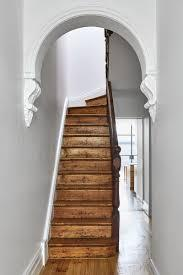Bench: (47, 98, 119, 257)
